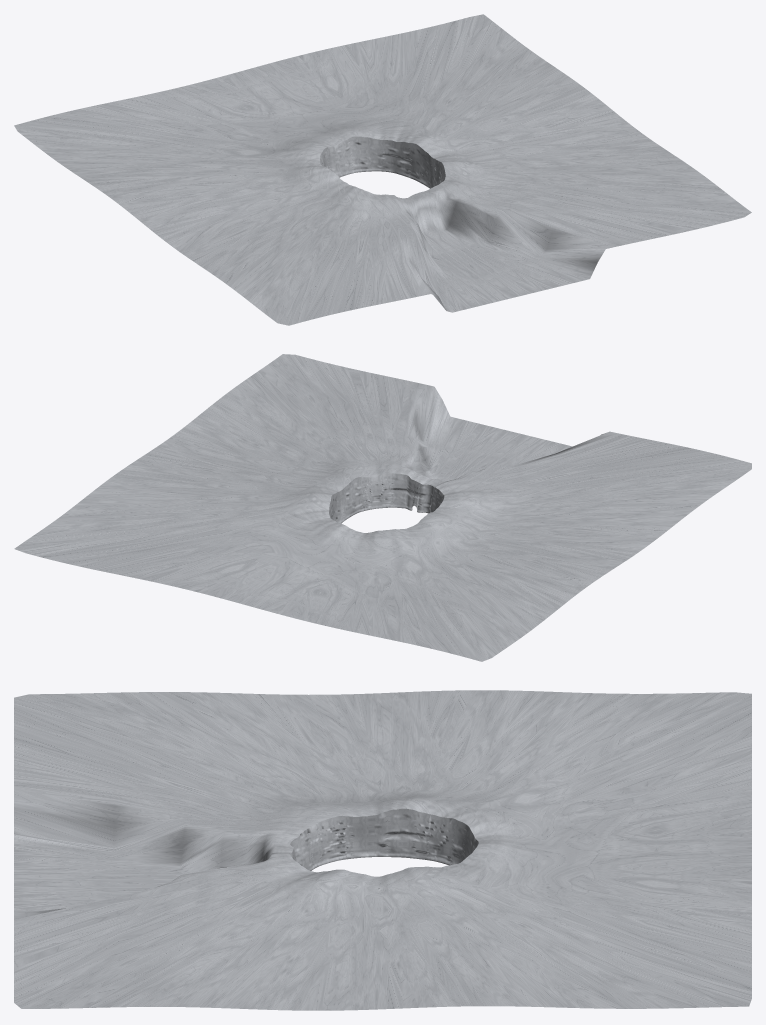
The model's file is excavation-detailed-collision.glb.
3 views of the same model, one above another, from view 1: azimuth 30°, elevation 25°; view 2: azimuth 150°, elevation 25°; view 3: azimuth 270°, elevation 25° (orthographic). The views are drawn at different scales.
Parts seen in each view (by area): view 1: Excavation_Detailed_Sector_06_Collision, Excavation_Detailed_Sector_00_Collision, Excavation_Detailed_Sector_05_Collision, Excavation_Detailed_Sector_02_Collision, Excavation_Detailed_Sector_04_Collision, Excavation_Detailed_Sector_15_Collision, Excavation_Detailed_Sector_07_Collision, Excavation_Detailed_Sector_08_Collision, Excavation_Detailed_Sector_13_Collision, Excavation_Detailed_Sector_10_Collision, Excavation_Detailed_Sector_17_Collision, Excavation_Detailed_Sector_12_Collision (+5 smaller); view 2: Excavation_Detailed_Sector_06_Collision, Excavation_Detailed_Sector_02_Collision, Excavation_Detailed_Sector_04_Collision, Excavation_Detailed_Sector_15_Collision, Excavation_Detailed_Sector_05_Collision, Excavation_Detailed_Sector_10_Collision, Excavation_Detailed_Sector_07_Collision, Excavation_Detailed_Sector_13_Collision, Excavation_Detailed_Sector_00_Collision, Excavation_Detailed_Sector_08_Collision, Excavation_Detailed_Sector_12_Collision, Excavation_Detailed_Sector_17_Collision (+5 smaller); view 3: Excavation_Detailed_Sector_06_Collision, Excavation_Detailed_Sector_17_Collision, Excavation_Detailed_Sector_02_Collision, Excavation_Detailed_Sector_04_Collision, Excavation_Detailed_Sector_05_Collision, Excavation_Detailed_Sector_15_Collision, Excavation_Detailed_Sector_10_Collision, Excavation_Detailed_Sector_13_Collision, Excavation_Detailed_Sector_07_Collision, Excavation_Detailed_Sector_08_Collision, Excavation_Detailed_Sector_12_Collision, Excavation_Detailed_Sector_09_Collision (+5 smaller).
Boxes of the visible parts, x1,y1,x2,y2 form: Excavation_Detailed_Sector_06_Collision: (383,14,542,177); Excavation_Detailed_Sector_00_Collision: (412,183,621,299); Excavation_Detailed_Sector_05_Collision: (409,59,630,187); Excavation_Detailed_Sector_02_Collision: (441,170,751,244); Excavation_Detailed_Sector_04_Collision: (428,125,721,189); Excavation_Detailed_Sector_15_Collision: (226,186,372,325); Excavation_Detailed_Sector_07_Collision: (256,36,386,172); Excavation_Detailed_Sector_08_Collision: (134,67,353,177); Excavation_Detailed_Sector_13_Collision: (139,174,351,274); Excavation_Detailed_Sector_10_Collision: (14,109,324,166); Excavation_Detailed_Sector_17_Collision: (383,194,502,312); Excavation_Detailed_Sector_12_Collision: (80,166,335,219); Excavation_Detailed_Sector_06_Collision: (14,498,332,572); Excavation_Detailed_Sector_02_Collision: (266,354,416,510); Excavation_Detailed_Sector_04_Collision: (162,375,362,520); Excavation_Detailed_Sector_15_Collision: (442,452,751,510); Excavation_Detailed_Sector_05_Collision: (74,443,344,523); Excavation_Detailed_Sector_10_Collision: (393,526,521,661); Excavation_Detailed_Sector_07_Collision: (110,516,346,603); Excavation_Detailed_Sector_13_Collision: (430,505,686,569); Excavation_Detailed_Sector_00_Collision: (391,383,536,512); Excavation_Detailed_Sector_08_Collision: (240,526,379,633); Excavation_Detailed_Sector_12_Collision: (419,513,612,612); Excavation_Detailed_Sector_17_Collision: (418,431,654,513); Excavation_Detailed_Sector_06_Collision: (419,864,751,1008); Excavation_Detailed_Sector_17_Collision: (14,762,313,880); Excavation_Detailed_Sector_02_Collision: (14,861,326,1008); Excavation_Detailed_Sector_04_Collision: (104,869,376,1010); Excavation_Detailed_Sector_05_Collision: (348,867,587,1010); Excavation_Detailed_Sector_15_Collision: (14,692,346,864); Excavation_Detailed_Sector_10_Collision: (427,692,751,865); Excavation_Detailed_Sector_13_Collision: (204,692,405,858); Excavation_Detailed_Sector_07_Collision: (457,843,751,942); Excavation_Detailed_Sector_08_Collision: (462,775,751,860); Excavation_Detailed_Sector_12_Collision: (387,690,564,858); Excavation_Detailed_Sector_09_Collision: (450,735,751,865).
Bounding box in the file's own units: 560 × 40.23 × 560.
1 material, 1 textured.
